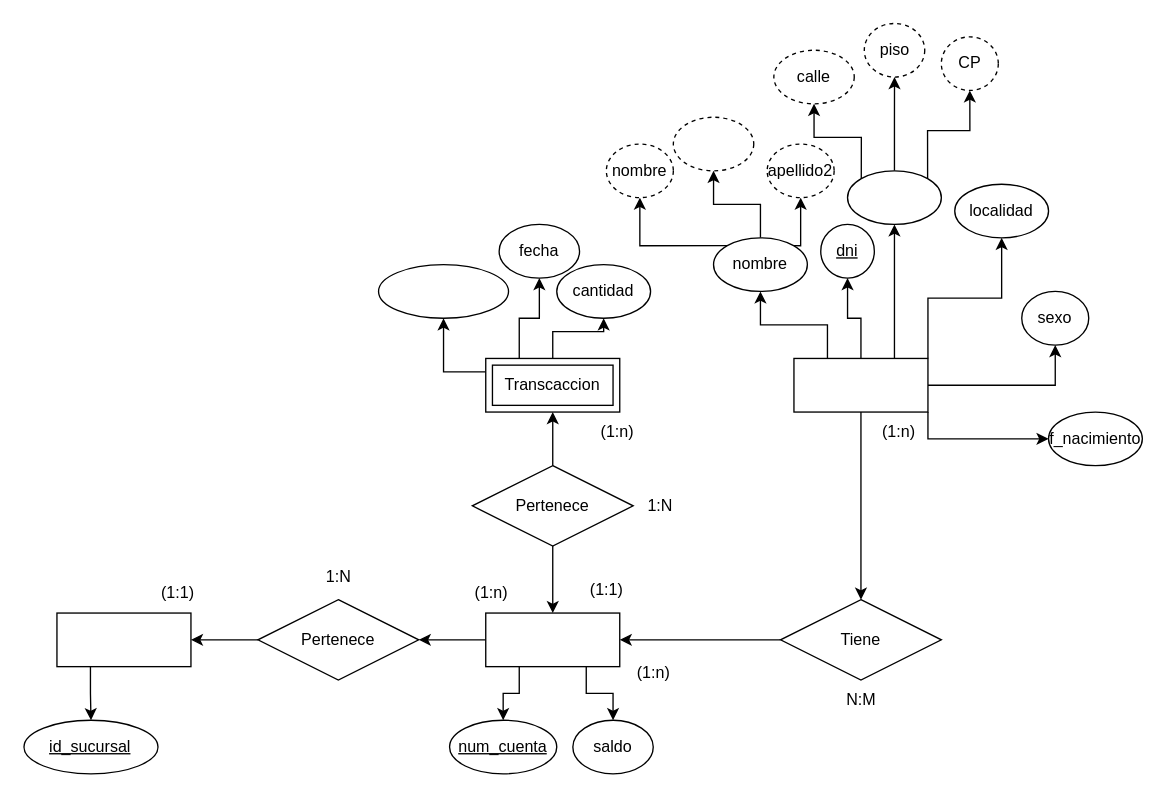
Some shapes in this 1166 by 797 pixel diagram are drawn without their labels. The shapes that lost their labels are listed below. From the top down, each one's box as (x1, y1, x2, y2) in pixels, then its label:
(672, 116, 754, 171): apellido1
(846, 170, 941, 224): direccion
(377, 263, 509, 318): num_transaccion
(793, 357, 928, 412): Cliente
(56, 612, 191, 667): Sucursal
(484, 612, 620, 667): Cuenta
